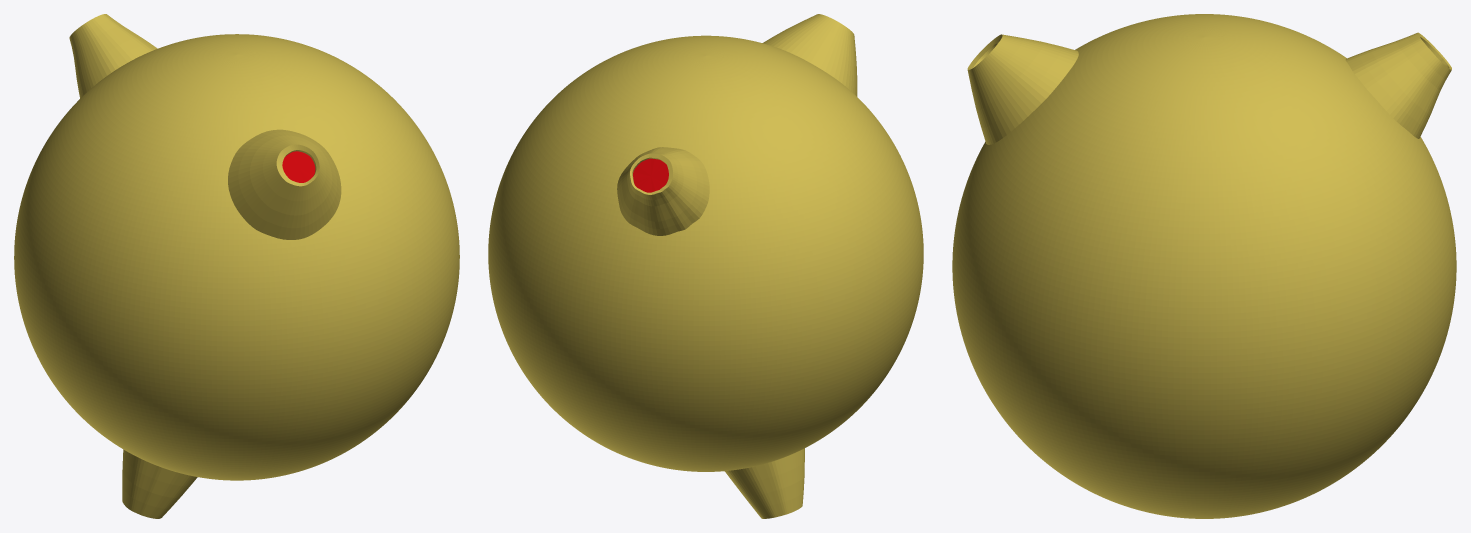
The model's file is asteroid.obj.
3 renders of one model, left to right at view 1: azimuth 30°, elevation 25°; view 2: azimuth 150°, elevation 25°; view 3: azimuth 270°, elevation 25°, orthographic. The views are drawn at different scales.
Visible parts, largest first — view 1: Circle.002; view 2: Circle.002; view 3: Circle.002.
Boxes of the visible parts, bbox=[...] form: Circle.002: bbox=[14, 14, 459, 518]; Circle.002: bbox=[488, 14, 923, 518]; Circle.002: bbox=[952, 14, 1456, 518].
Bounding box in the file's own units: 6.37 × 7.04 × 6.37.
